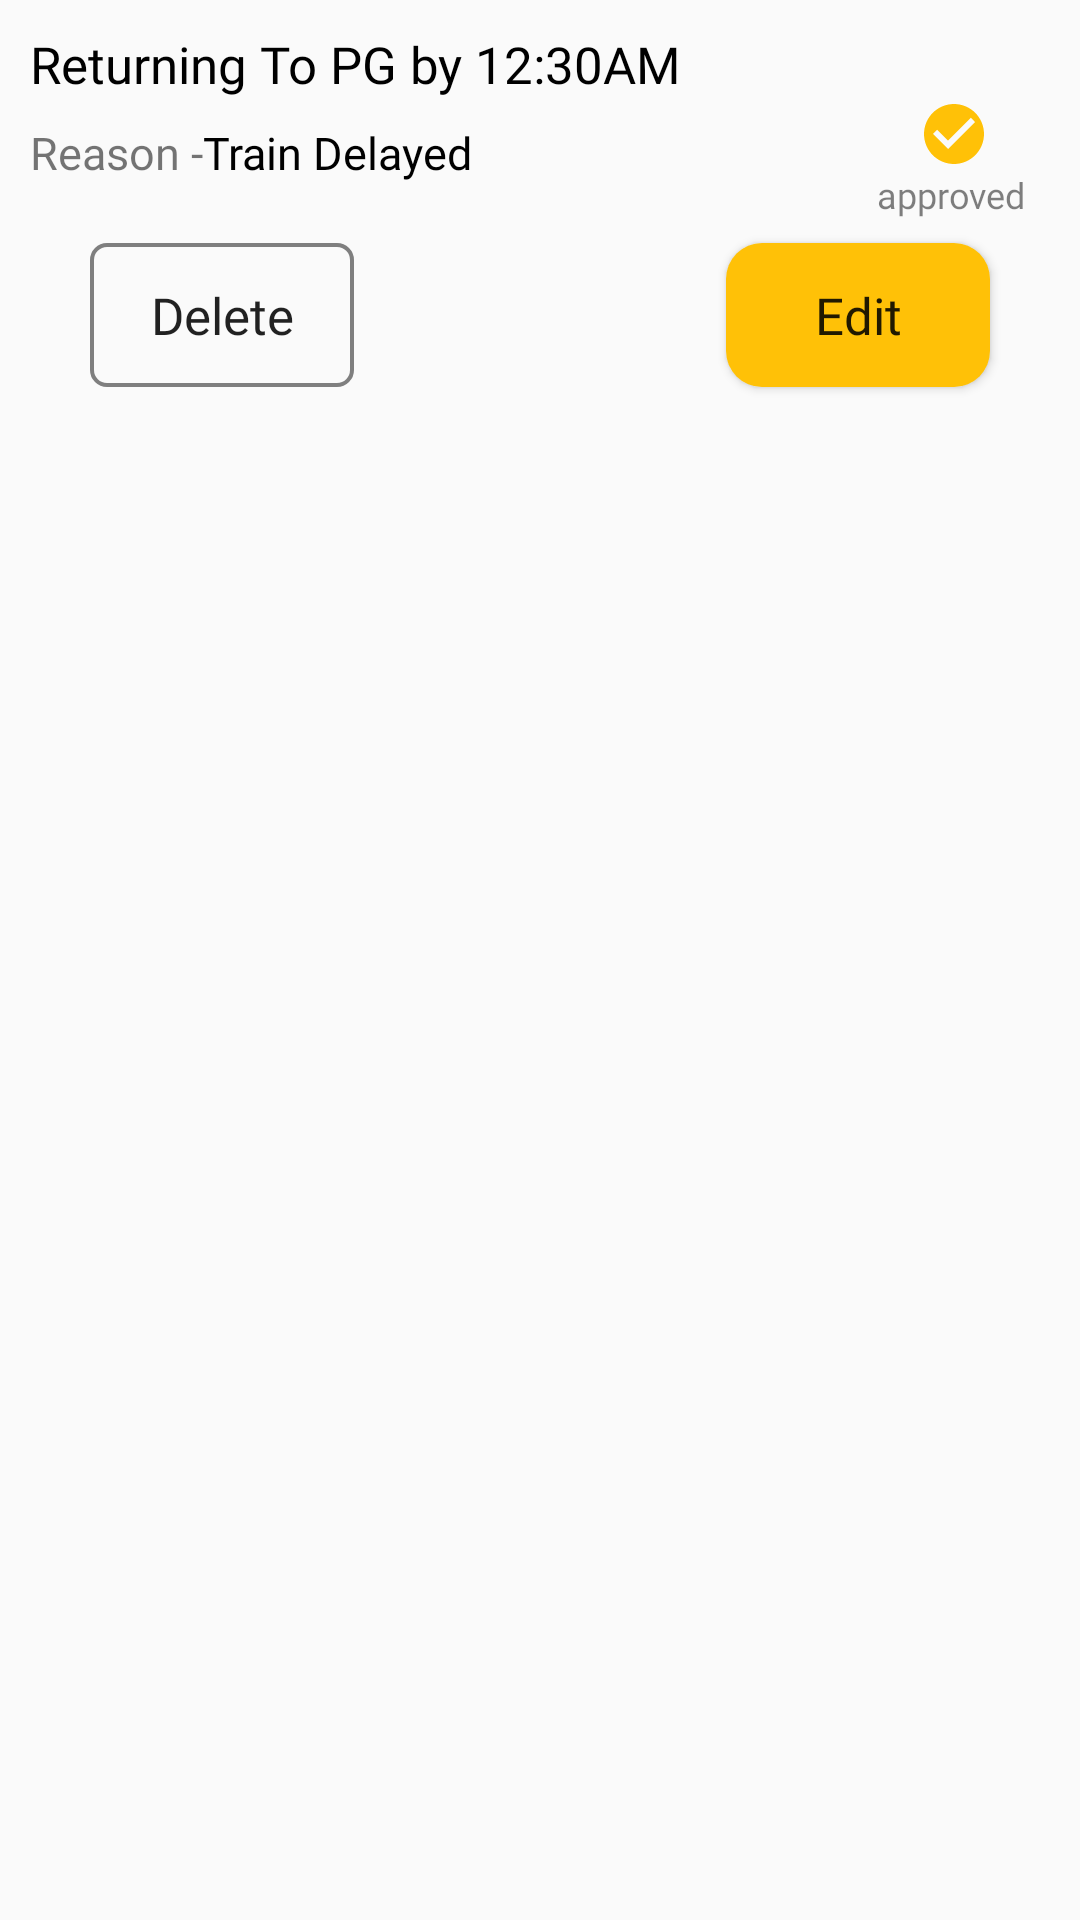

Named icons in this screenshot (1080px x 1920px) and their bounding boxes, (x1=x1, y1=y1, x2=x2, y2=y2):
check circle: (x1=924, y1=104, x2=984, y2=164)
